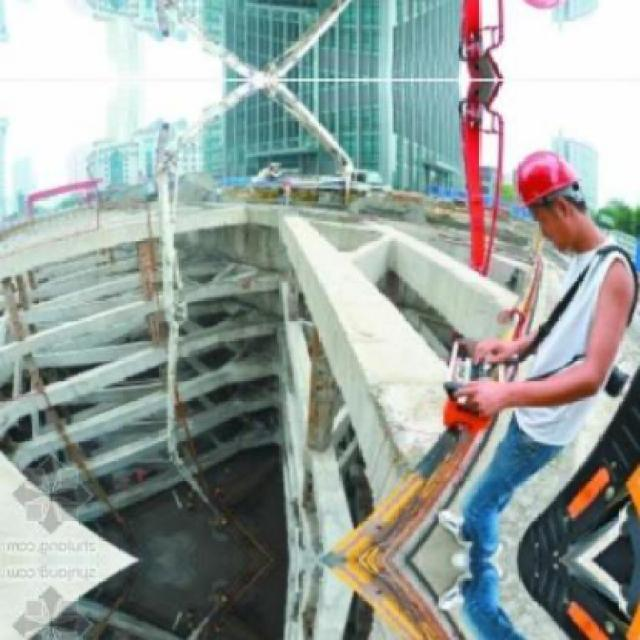helmet: (506, 135, 592, 248), (505, 0, 592, 26)
